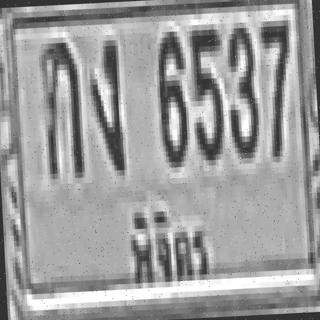A01: (38, 37, 82, 174)
A07: (85, 35, 122, 172)
N03: (224, 20, 258, 151)
N05: (186, 21, 223, 158)
N06: (154, 26, 186, 162)
N07: (258, 15, 292, 157)
P45: (120, 202, 218, 290)
